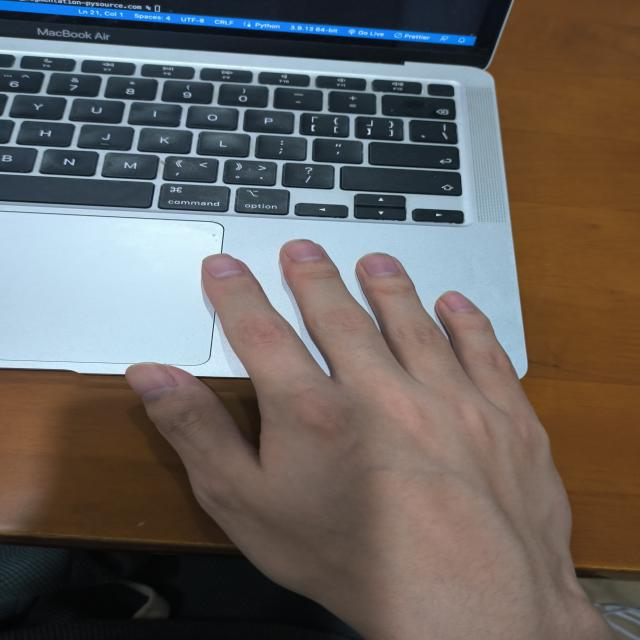Nail: (125, 361, 176, 400), (203, 253, 243, 277), (359, 252, 399, 276), (282, 239, 324, 261), (440, 290, 475, 312)
